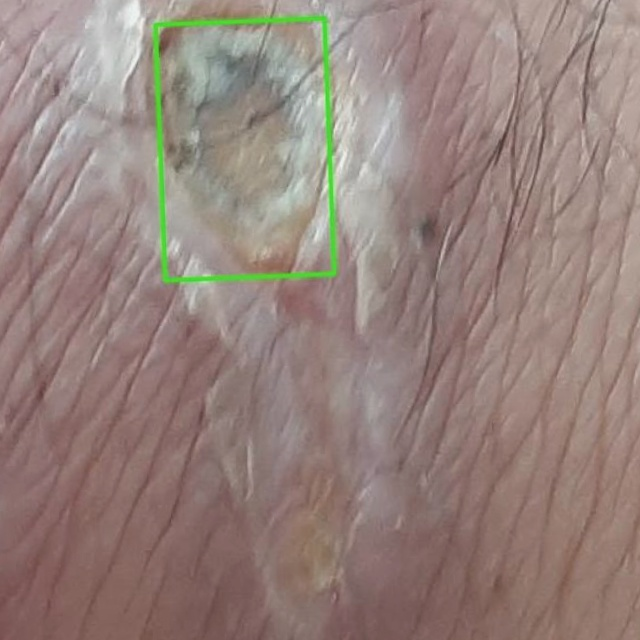Contact Dermatitis: (155, 18, 334, 280)
